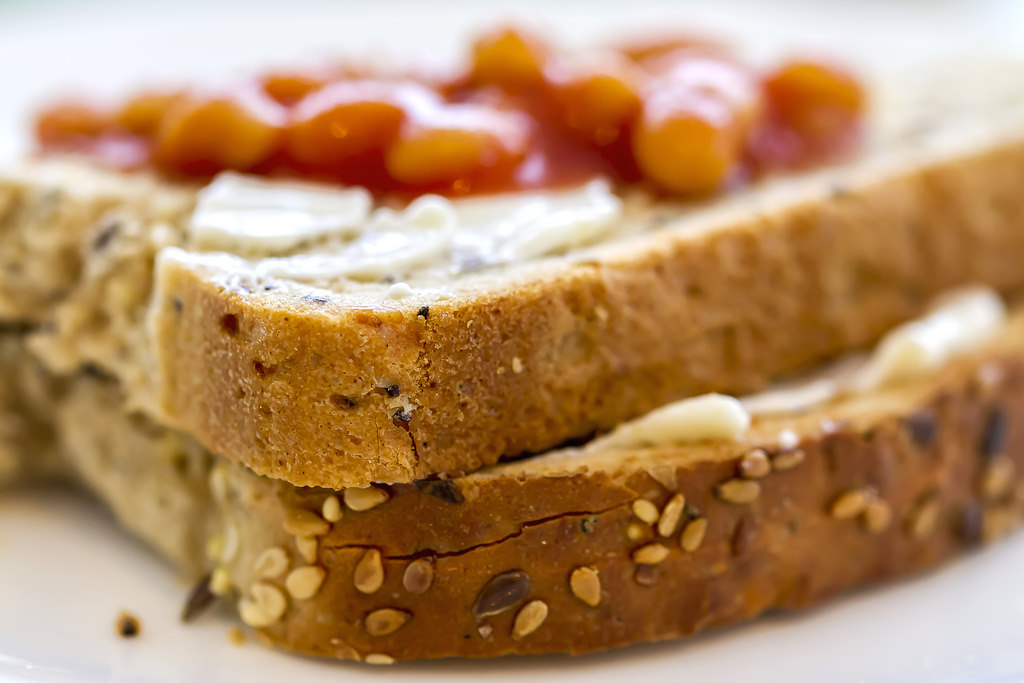slice of bread: (88, 225, 1024, 621)
